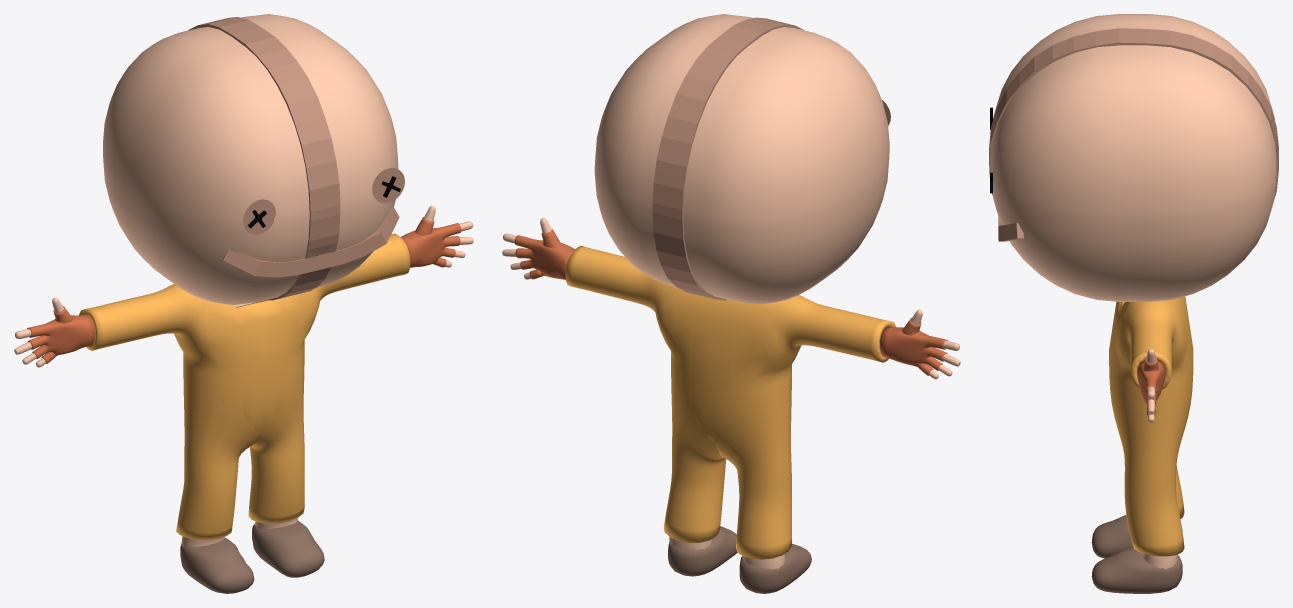
The model's file is Sam (2).fbx.
The picture shows the model from 3 angles, left to right: view 1: azimuth 30°, elevation 25°; view 2: azimuth 150°, elevation 25°; view 3: azimuth 270°, elevation 25°; orthographic projection.
Visible parts, largest first — view 1: Cabeza, Trajecito, RayaCabeza, Cube, Guantes, RayaCabezaSonrisa, Cuerpo, OjoDer, OjoIzq; view 2: Cabeza, Trajecito, RayaCabeza, Guantes, Cube, Cuerpo; view 3: Cabeza, Trajecito, RayaCabeza, Cube, Guantes, Cuerpo, RayaCabezaSonrisa.
Part boxes in pixels (x1,y1,x2,y2): Cabeza: (103,14,398,305); Trajecito: (78,233,410,539); RayaCabeza: (188,17,340,300); Cube: (180,521,324,593); Guantes: (27,217,461,363); RayaCabezaSonrisa: (223,206,399,277); Cuerpo: (14,206,473,547); OjoDer: (372,168,404,203); OjoIzq: (243,199,275,234); Cabeza: (594,14,889,304); Trajecito: (565,245,895,559); RayaCabeza: (652,17,803,300); Guantes: (515,229,947,375); Cube: (668,526,811,593); Cuerpo: (502,218,960,569); Cabeza: (991,14,1276,301); Trajecito: (1109,296,1193,556); RayaCabeza: (989,28,1278,196); Cube: (1091,515,1182,593); Guantes: (1136,357,1165,415); Cuerpo: (1142,349,1177,569); RayaCabezaSonrisa: (998,216,1023,241).
Bounding box in the file's own units: 231 × 260 × 127.
10 materials, 10 textured.
